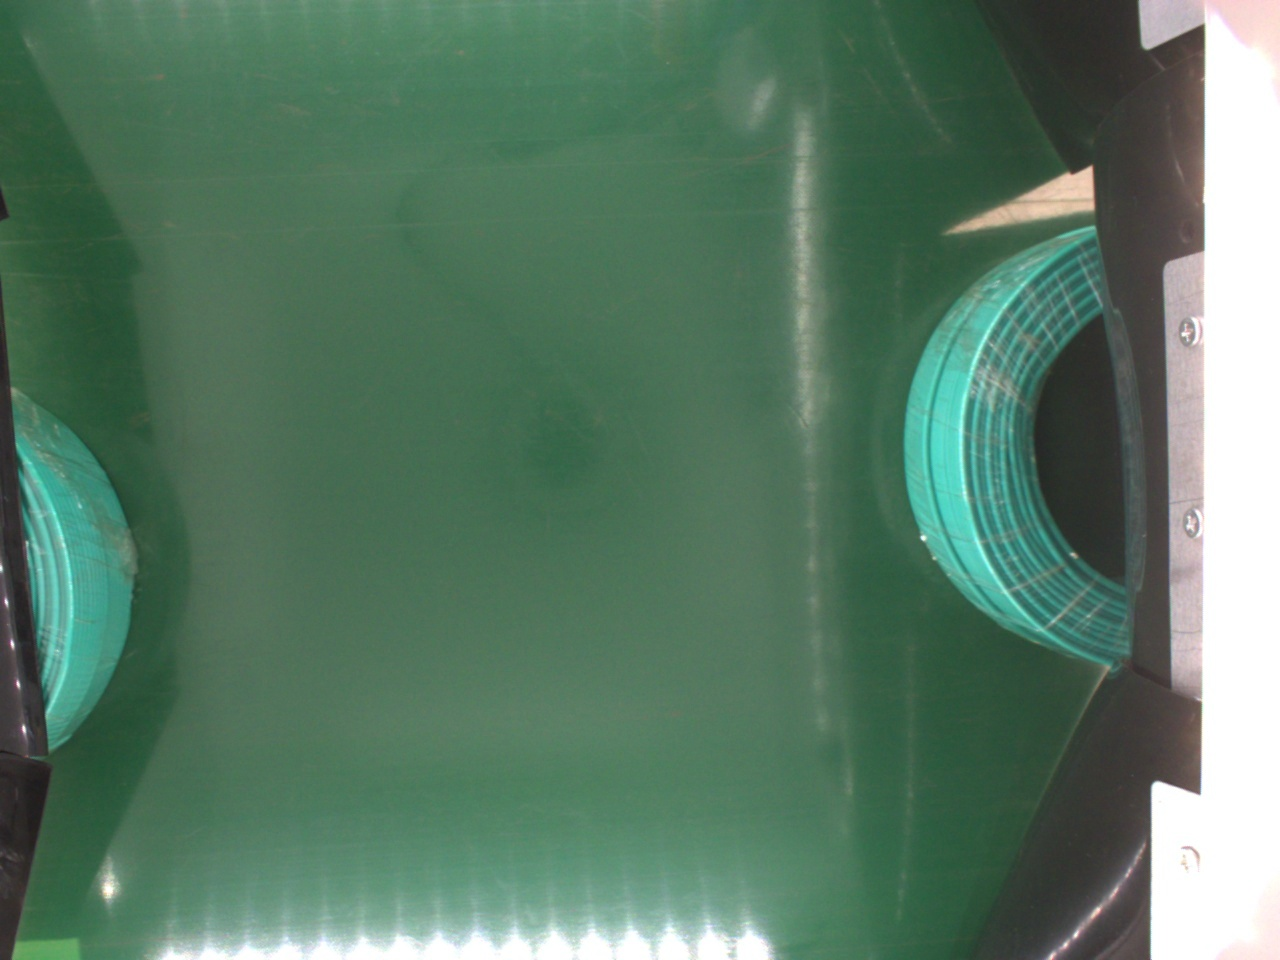green: (906, 228, 1133, 666), (5, 384, 131, 740)
